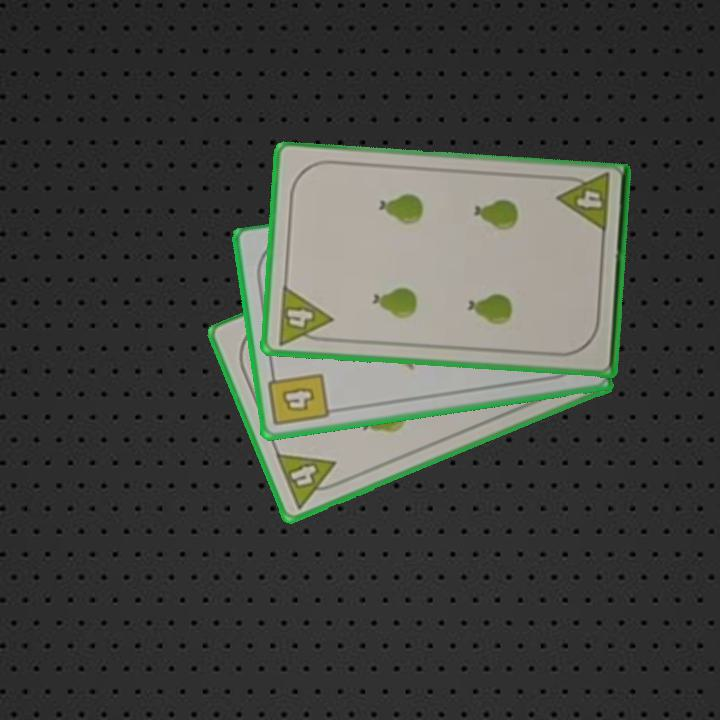4b: (265, 365, 332, 430)
4p: (272, 450, 346, 512), (274, 282, 335, 348), (554, 171, 613, 237)
